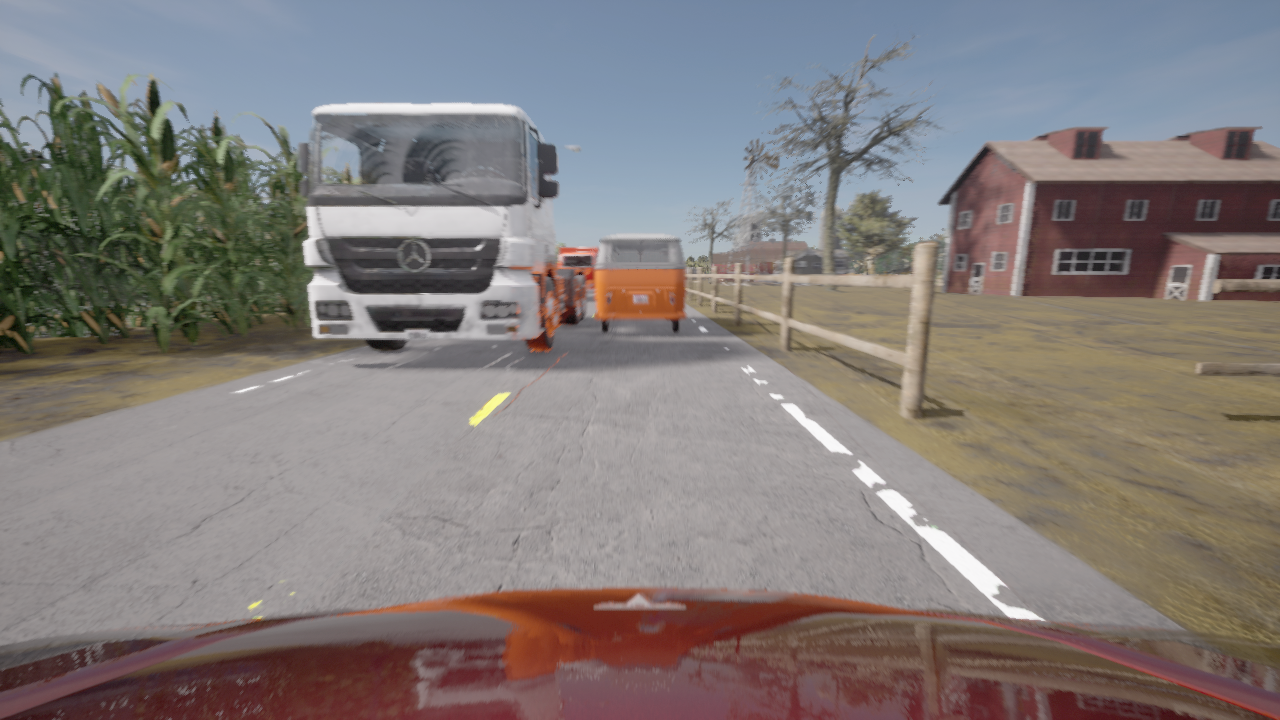cyclist: (0, 588, 1279, 719), (298, 104, 586, 350), (595, 234, 686, 332), (558, 247, 599, 292)
